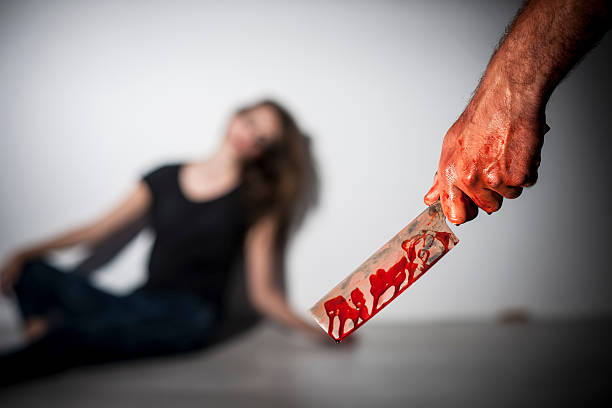knives: (154, 114, 591, 356)
